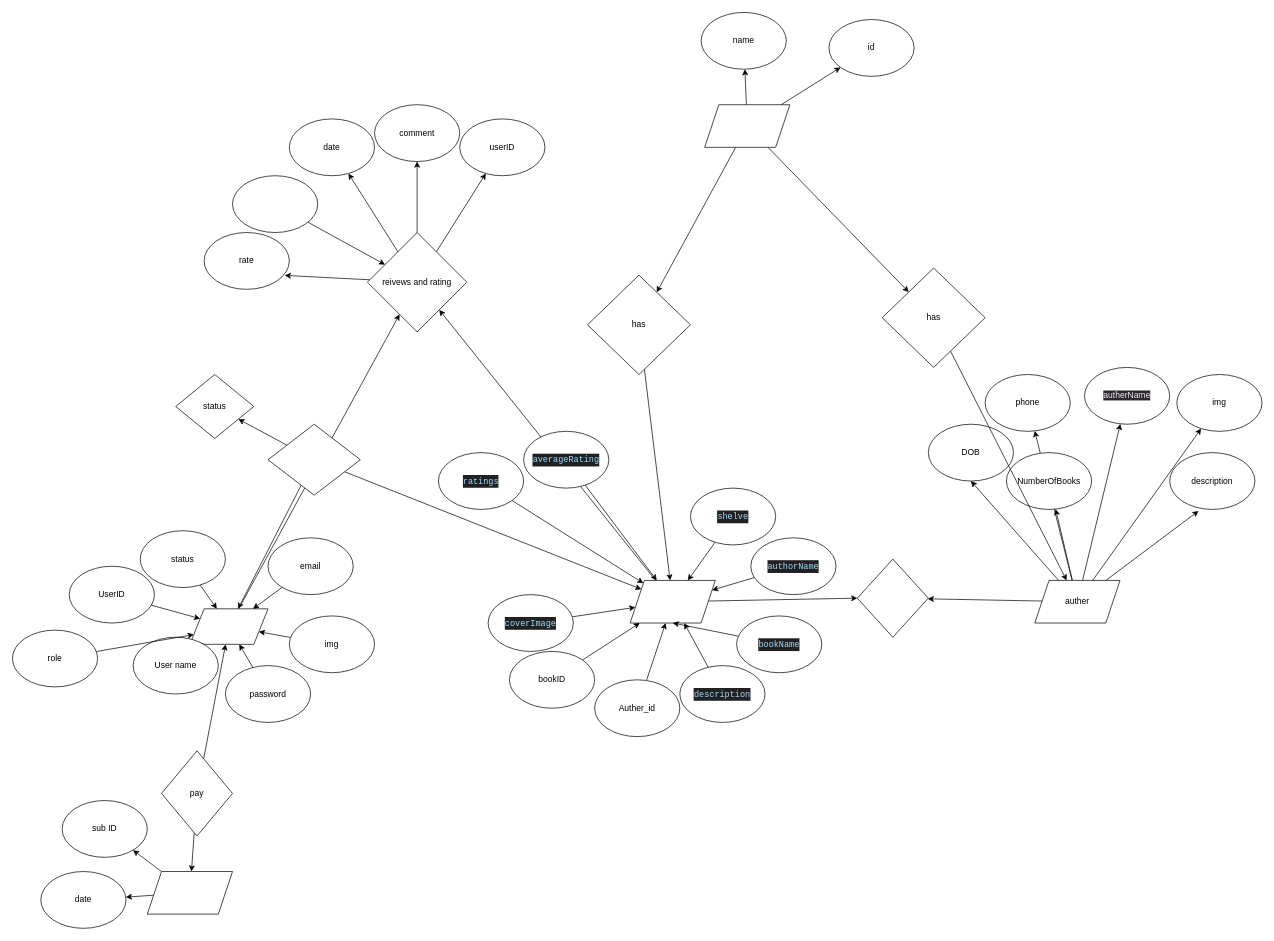
This 1274x941 diagram has some shape labels left out. The shapes that lost their labels are listed below. From the top down, each one's centre as x and y in pixels, then its label:
At pixel 747 125: "catigorys".
At pixel 275 204: "Boook ID".
At pixel 313 459: "wish list".
At pixel 672 601: "books".
At pixel 892 597: "auther Have Books".
At pixel 228 626: "users".
At pixel 190 892: "subscriptions".
